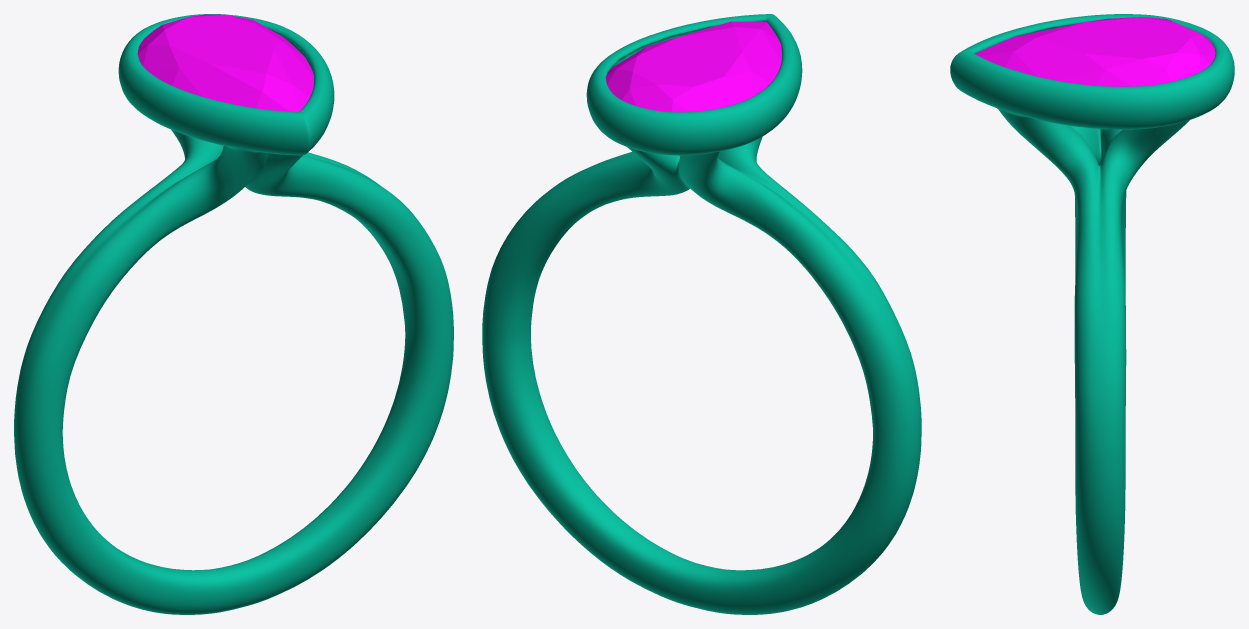
The model's file is BE1543_PE_200ct_RENDER.glb.
The picture shows the model from 3 angles, left to right: view 1: azimuth 30°, elevation 25°; view 2: azimuth 150°, elevation 25°; view 3: azimuth 270°, elevation 25°; orthographic projection.
Parts seen in each view (by area): view 1: Metal 01, CS_Diamond_Pear; view 2: Metal 01, CS_Diamond_Pear; view 3: Metal 01, CS_Diamond_Pear.
Boxes of the visible parts, <box> form: Metal 01: <box>14,14,453,614</box>; CS_Diamond_Pear: <box>137,14,313,112</box>; Metal 01: <box>482,14,921,614</box>; CS_Diamond_Pear: <box>605,21,781,112</box>; Metal 01: <box>950,14,1234,614</box>; CS_Diamond_Pear: <box>975,17,1215,86</box>.
Bounding box in the file's own units: 21.24 × 26.18 × 12.19.
